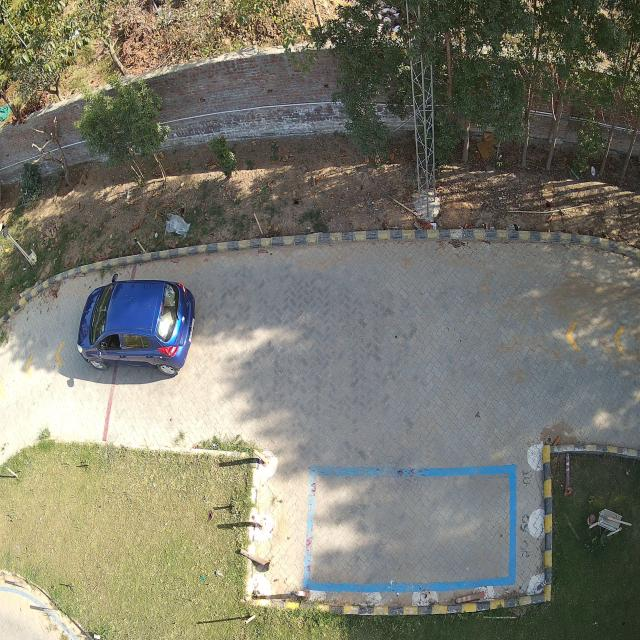car: (76, 275, 195, 377)
